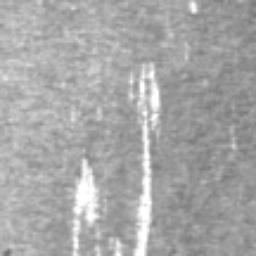White rust: (127, 60, 162, 256), (71, 157, 101, 256), (107, 235, 123, 256), (190, 0, 198, 14), (94, 244, 101, 256), (95, 230, 101, 240)
